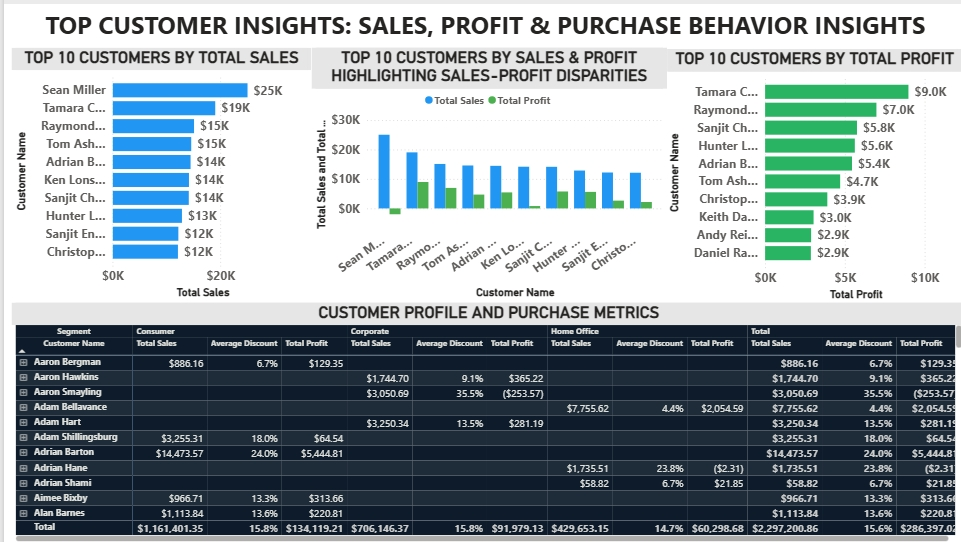

This screenshot's page, from the dashboard's own definition file:
{"tool":"powerbi","page":{"name":"Top Customers by Sales, Profit, and Purchase Behaviours","canvas":[1280,720],"ordinal":5},"visuals":[{"type":"clusteredBarChart","title":"TOP 10 CUSTOMERS BY TOTAL SALES","fields":{"Y":["Orders.Total Sales"],"Category":["Orders.Customer Name"]},"box":[9.4,58.6,398.7,338.3],"z":0},{"type":"clusteredBarChart","title":"TOP 10 CUSTOMERS BY TOTAL PROFIT","fields":{"Y":["Orders.Total Profit"],"Category":["Orders.Customer Name"]},"box":[876.9,60.5,400.6,338.3],"z":1000},{"type":"pivotTable","title":"CUSTOMER PROFILE AND PURCHASE METRICS","fields":{"Rows":["Orders.Customer Name","Orders.Region"],"Columns":["Orders.Segment"],"Values":["Orders.Total Sales","Orders.Average Discount","Orders.Total Profit"]},"box":[9.9,397.6,1268.9,323],"z":2000},{"type":"textbox","box":[0,0,1280,58],"z":3000},{"type":"lineClusteredColumnComboChart","title":"TOP 10 CUSTOMERS BY SALES & PROFIT HIGHLIGHTING SALES-PROFIT DISPARITIES","fields":{"Category":["Orders.Customer Name"],"Y":["Orders.Total Sales","Orders.Total Profit"]},"box":[408.2,58.6,472.4,338.3],"z":4000}]}

Visuals, with their boxes in screenshot pixels (x1, y1, x2, y2), scaled from the page's 1280x720 canvas onto the 961x542 screenshot:
"TOP 10 CUSTOMERS BY TOTAL SALES" clusteredBarChart: [left=7, top=44, right=306, bottom=299]
"TOP 10 CUSTOMERS BY TOTAL PROFIT" clusteredBarChart: [left=658, top=46, right=959, bottom=300]
"CUSTOMER PROFILE AND PURCHASE METRICS" pivotTable: [left=7, top=299, right=960, bottom=541]
textbox: [left=0, top=0, right=960, bottom=44]
"TOP 10 CUSTOMERS BY SALES & PROFIT HIGHLIGHTING SALES-PROFIT DISPARITIES" lineClusteredColumnComboChart: [left=306, top=44, right=661, bottom=299]
